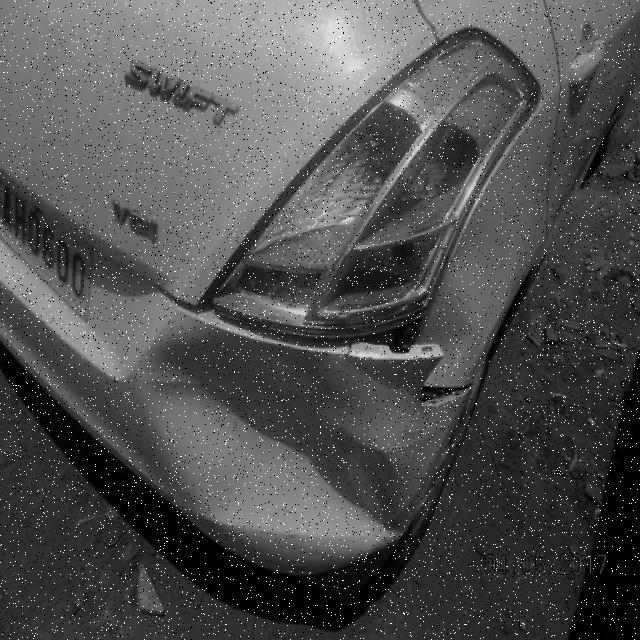car damage: (226, 36, 531, 328), (147, 326, 443, 543), (227, 272, 477, 416)
